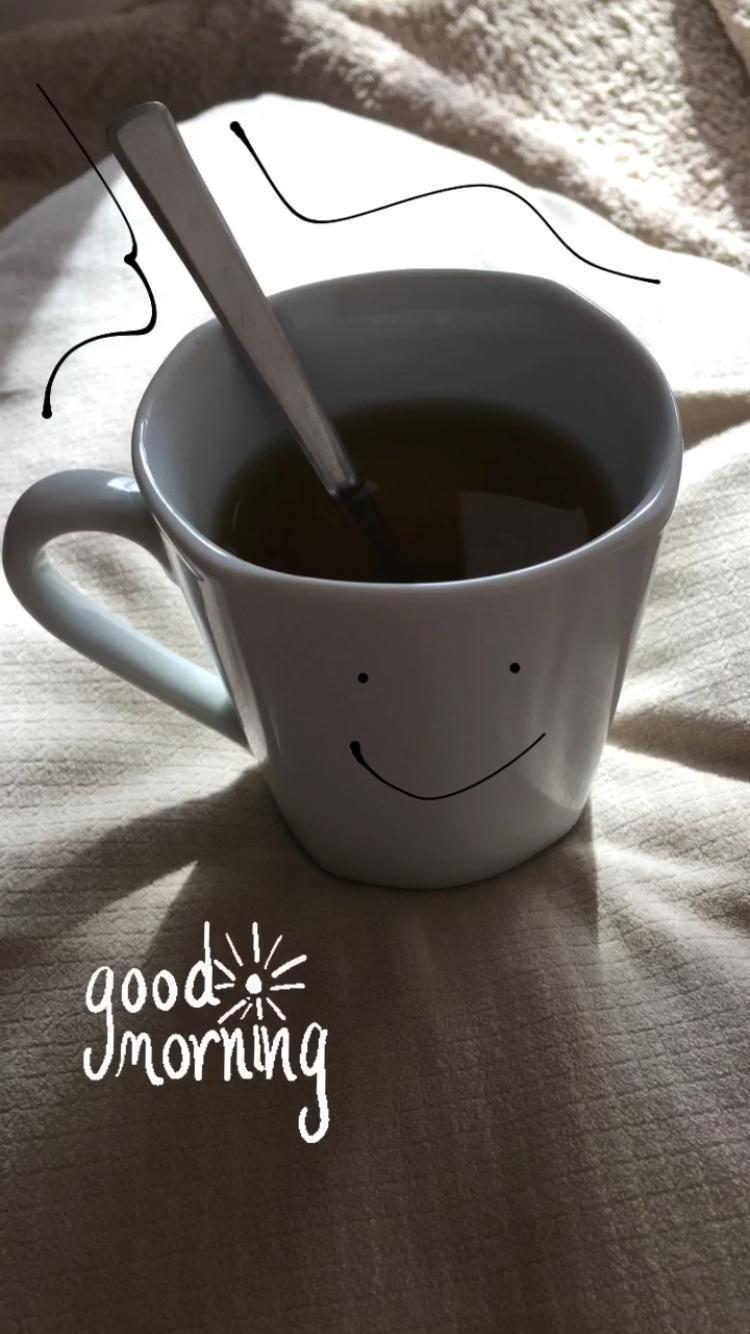cup-handle: (2, 265, 689, 890)
